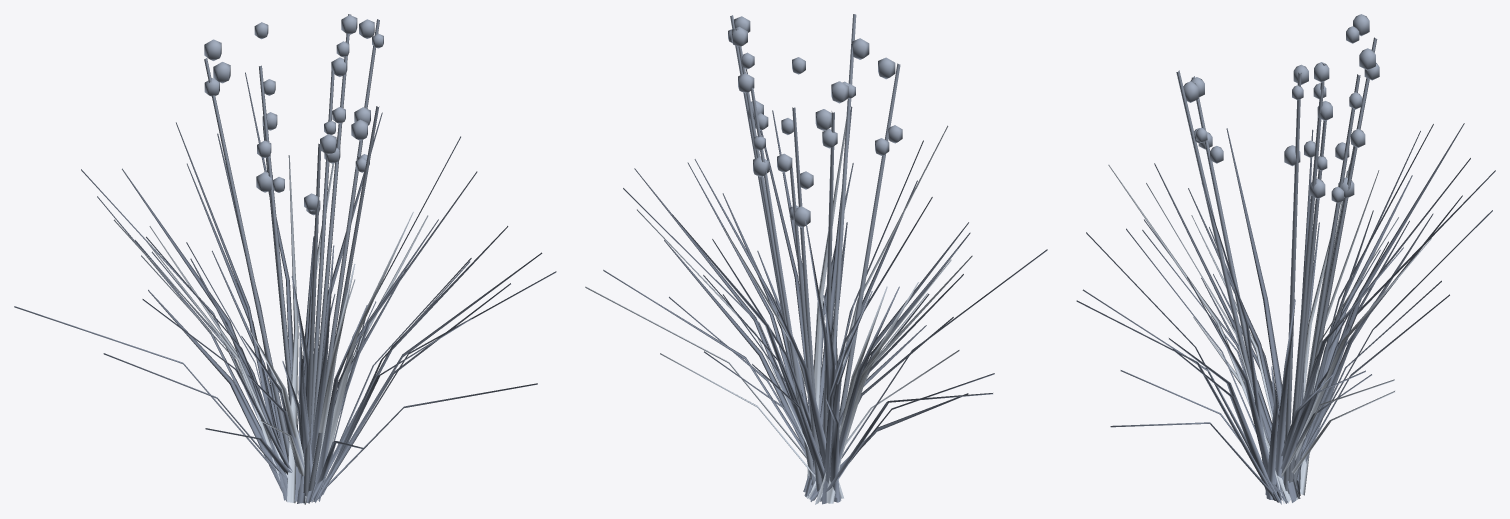
File: 丛生草.glb
3 renders of one model, left to right at view 1: azimuth 30°, elevation 25°; view 2: azimuth 150°, elevation 25°; view 3: azimuth 270°, elevation 25°, orthographic. The views are drawn at different scales.
Visible parts, largest first — view 1: garden-grass-clump-leaf, garden-grass-clump-accent, garden-grass-clump-light; view 2: garden-grass-clump-leaf, garden-grass-clump-accent, garden-grass-clump-light; view 3: garden-grass-clump-leaf, garden-grass-clump-accent, garden-grass-clump-light.
Boxes of the visible parts, x1,y1,x2,y2 form: garden-grass-clump-leaf: [14, 72, 556, 503]; garden-grass-clump-accent: [204, 14, 383, 501]; garden-grass-clump-light: [113, 135, 428, 504]; garden-grass-clump-leaf: [603, 69, 1047, 504]; garden-grass-clump-accent: [728, 14, 902, 496]; garden-grass-clump-light: [585, 119, 972, 504]; garden-grass-clump-leaf: [1076, 123, 1495, 504]; garden-grass-clump-accent: [1176, 14, 1379, 497]; garden-grass-clump-light: [1108, 164, 1431, 503].
Size of the model in its own units: 0.75 by 0.8 by 0.65.
